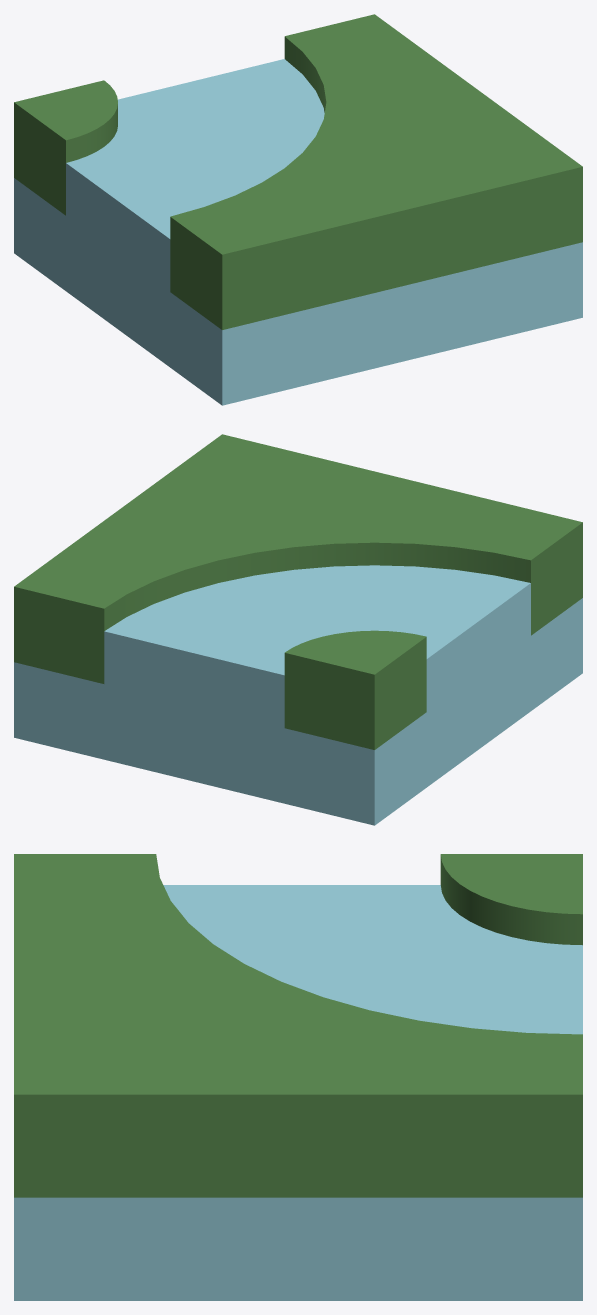
File: tile_080.fbx
The picture shows the model from 3 angles, top to bottom: view 1: azimuth 30°, elevation 25°; view 2: azimuth 150°, elevation 25°; view 3: azimuth 270°, elevation 25°; orthographic projection. The views are drawn at different scales.
Visible parts, largest first — view 1: tile_080; view 2: tile_080; view 3: tile_080.
Boxes of the visible parts, x1=… form: tile_080: x1=14, y1=14, x2=582, y2=405; tile_080: x1=14, y1=434, x2=582, y2=825; tile_080: x1=14, y1=854, x2=582, y2=1300.
Bounding box in the file's own units: 10 × 4 × 10.
